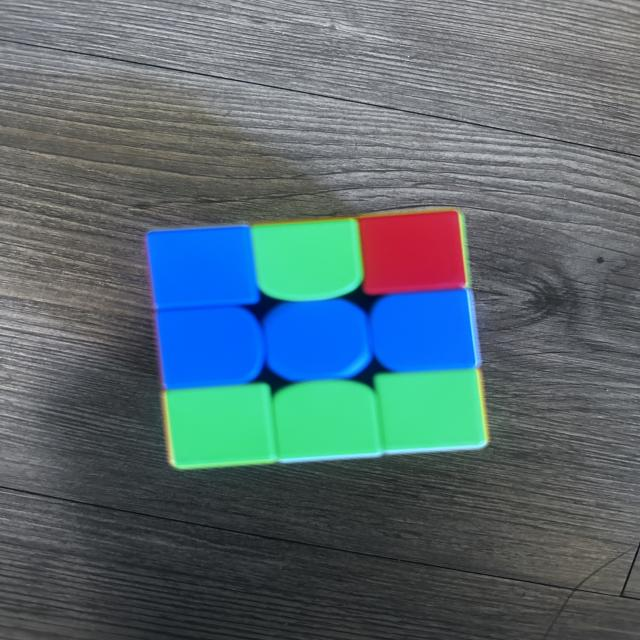sticker: (358, 207, 469, 299), (146, 227, 260, 314), (165, 382, 277, 470), (373, 368, 485, 456), (271, 379, 384, 464), (252, 219, 364, 304), (156, 305, 266, 391), (371, 290, 479, 375), (263, 299, 372, 382)
